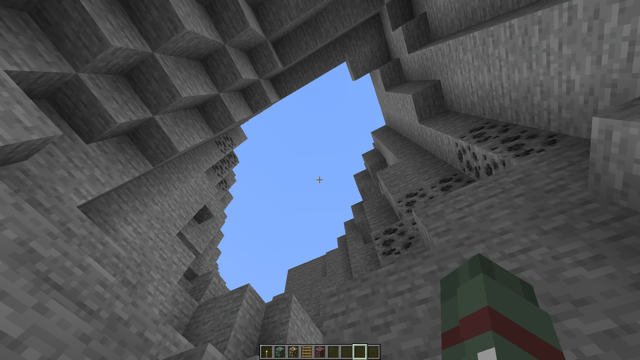coal: (376, 117, 564, 263), (211, 131, 240, 193)
